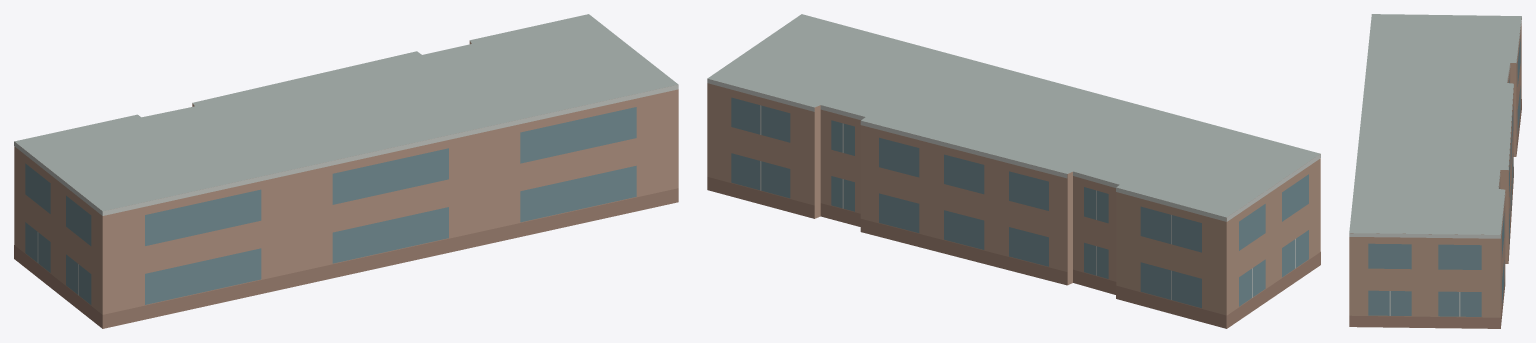
File: survey-upis-32766622.glb
3 views of the same model, side by side, from view 1: azimuth 30°, elevation 25°; view 2: azimuth 150°, elevation 25°; view 3: azimuth 270°, elevation 25° (orthographic). The views are drawn at different scales.
Parts seen in each view (by area): view 1: survey-upis-32766622.tmp; view 2: survey-upis-32766622.tmp; view 3: survey-upis-32766622.tmp.
Boxes of the visible parts, <box> form: survey-upis-32766622.tmp: <box>14,14,678,328</box>; survey-upis-32766622.tmp: <box>707,14,1320,328</box>; survey-upis-32766622.tmp: <box>1349,14,1521,328</box>.
Size of the model in its own units: 30.8 by 6.1 by 10.17.
